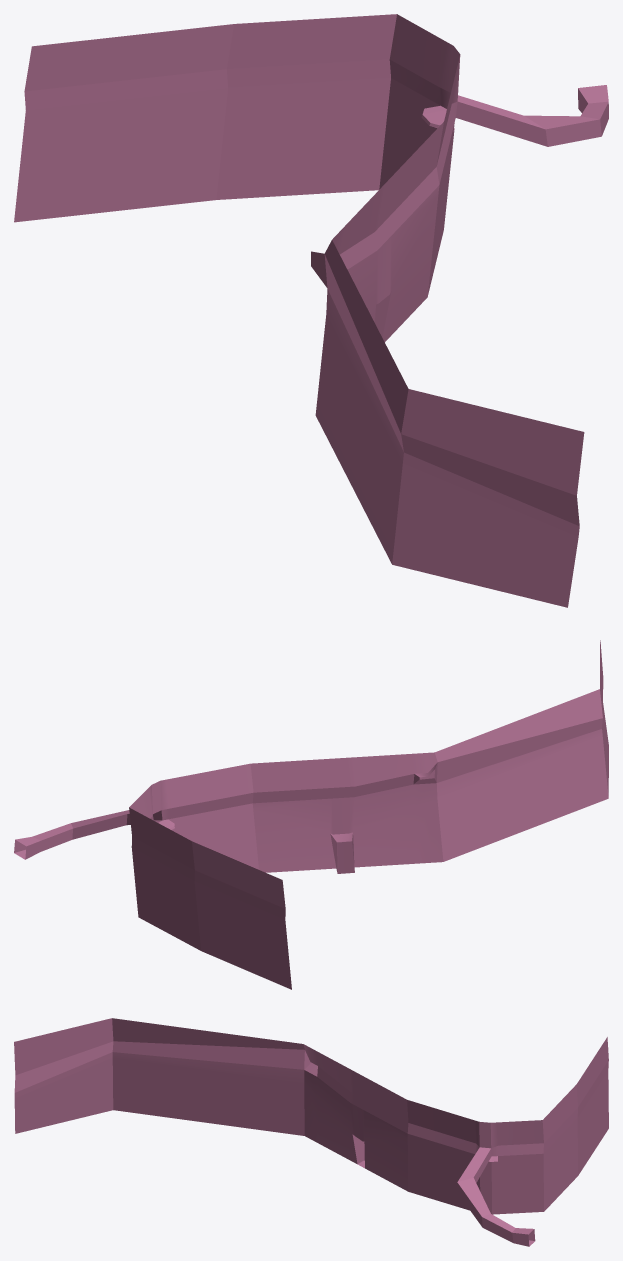
Rendered from terrain_W3A6.fbx.
The picture shows the model from 3 angles, top to bottom: view 1: azimuth 30°, elevation 25°; view 2: azimuth 150°, elevation 25°; view 3: azimuth 270°, elevation 25°; orthographic projection. The views are drawn at different scales.
Parts seen in each view (by area): view 1: W3A6_mesh; view 2: W3A6_mesh; view 3: W3A6_mesh.
Part boxes in pixels (<box>): W3A6_mesh: <box>14,14,608,607</box>; W3A6_mesh: <box>14,640,608,989</box>; W3A6_mesh: <box>14,1018,608,1246</box>.
Bounding box in the file's own units: 35973 × 10098 × 56552.
